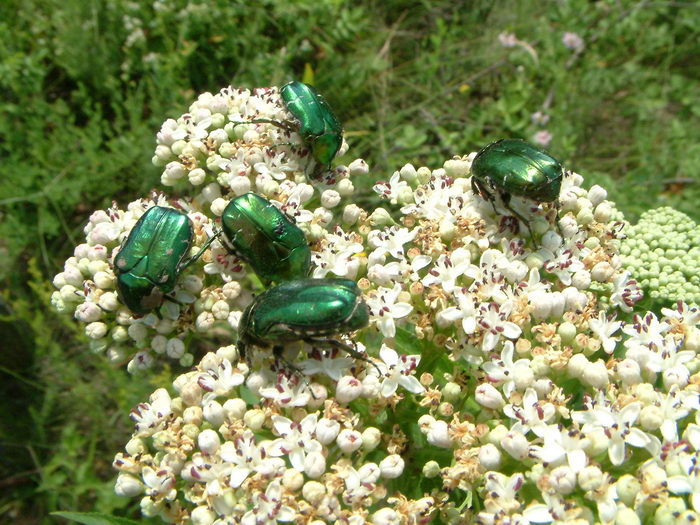Cetonia_aurata: (111, 193, 220, 327), (234, 277, 371, 354), (214, 182, 321, 280), (463, 128, 566, 219), (272, 77, 357, 172)
